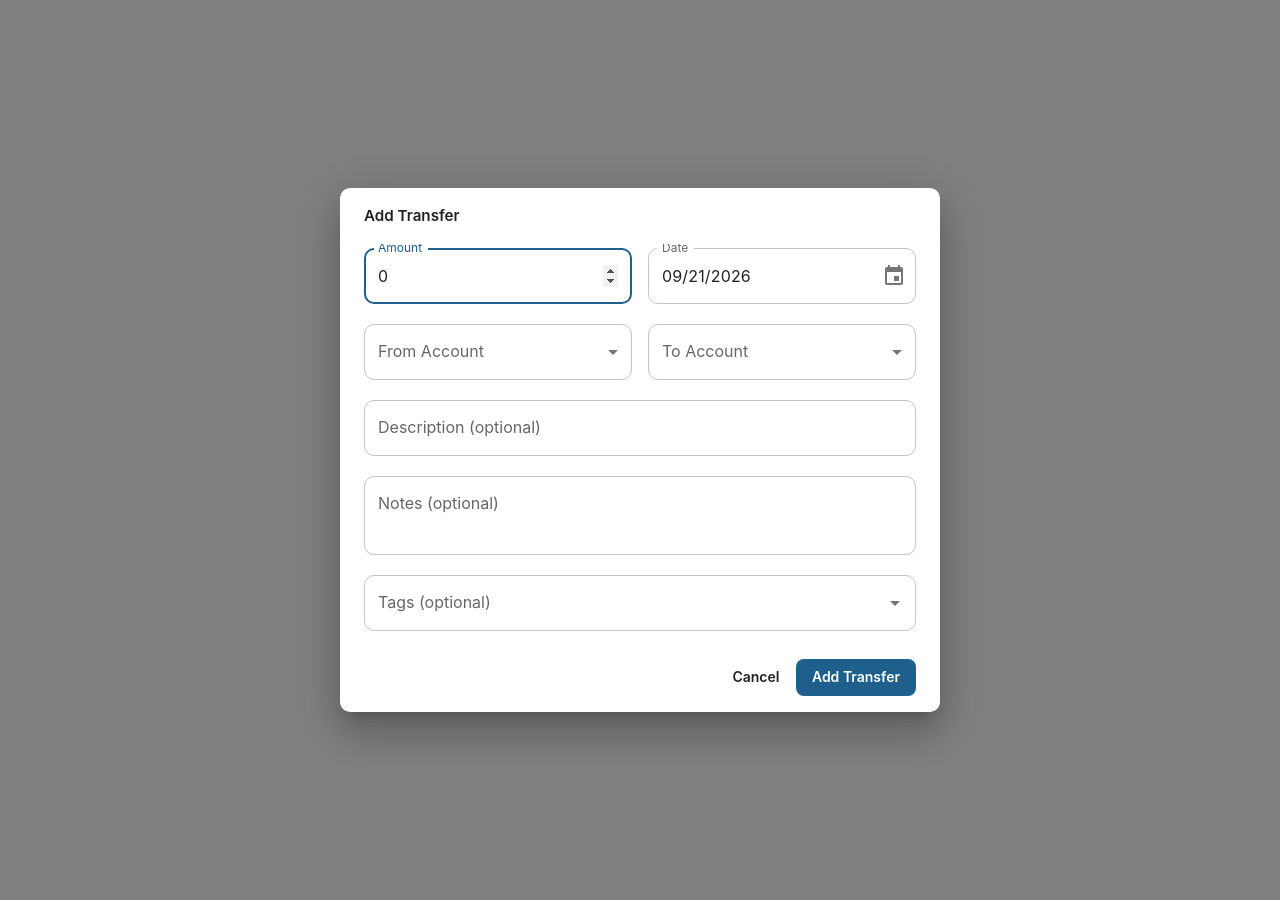
Scenario: TransferFormDialog › shows a validation error and does not submit without a source account
The image size is (1280, 900).
Replace the text in the number field labelled "Amount" with "100" at (498, 276), box top-left (364, 248), bottom-right (632, 304)
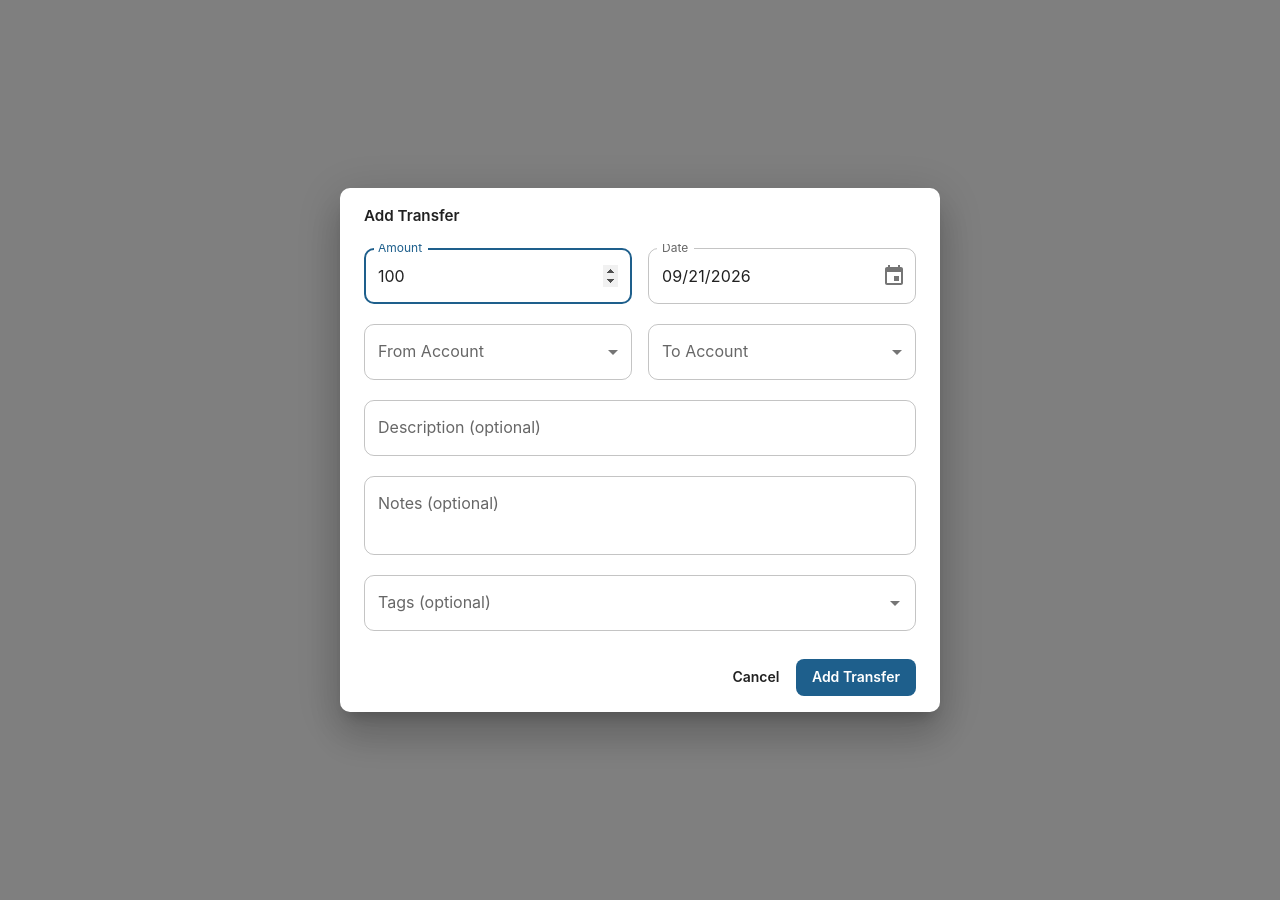
Click the button "Add Transfer" at (856, 678), box top-left (796, 659), bottom-right (916, 696)
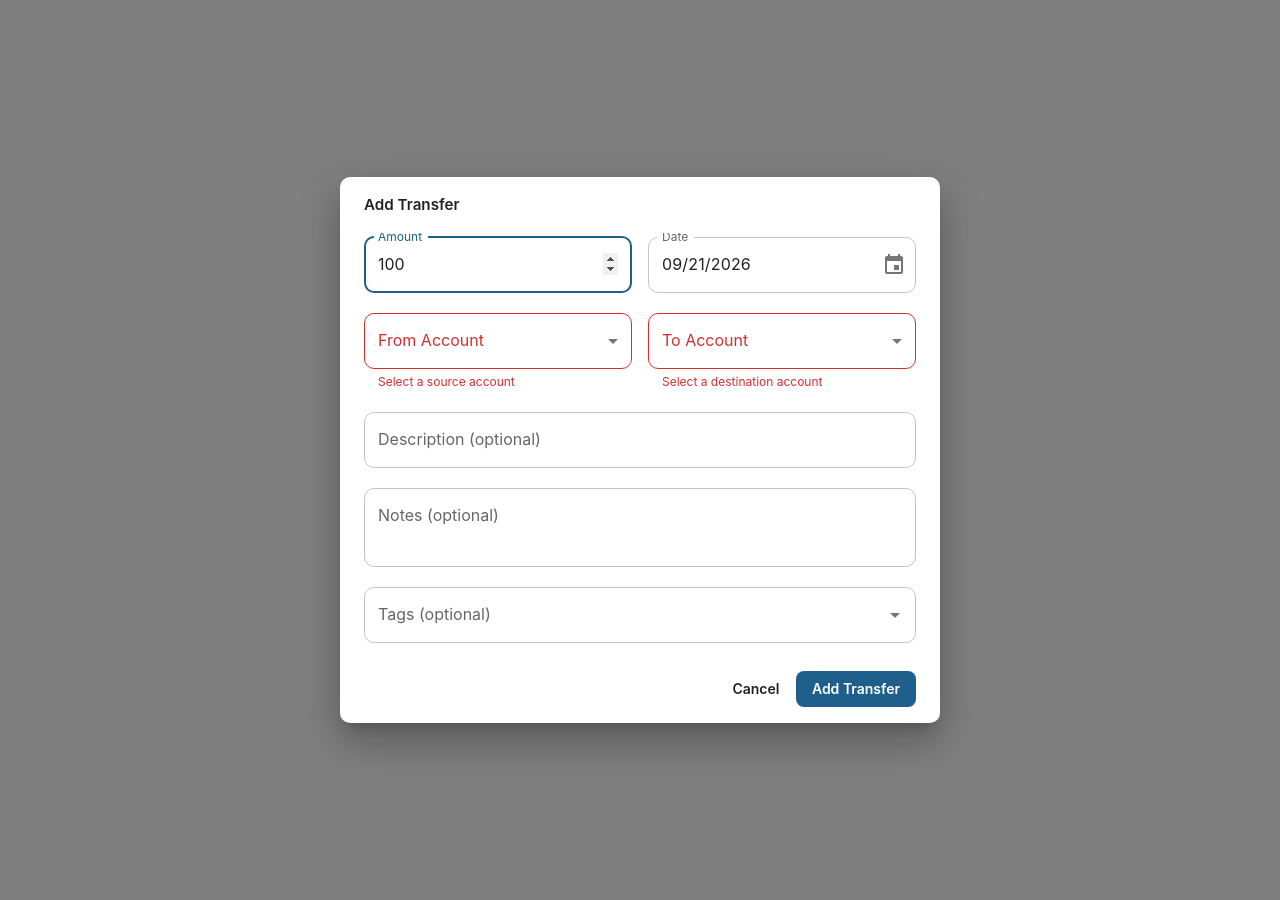
Expected: the text "Select a source account" is shown, top-left (378, 374), bottom-right (515, 389)
